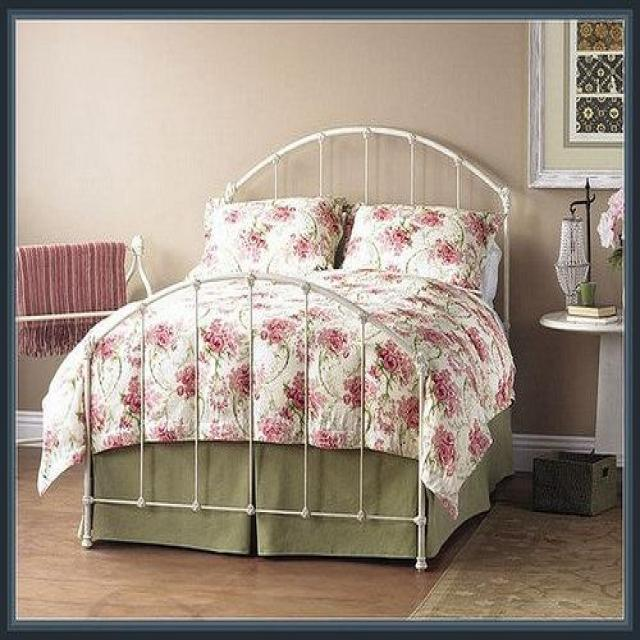bed: (36, 123, 516, 570)
